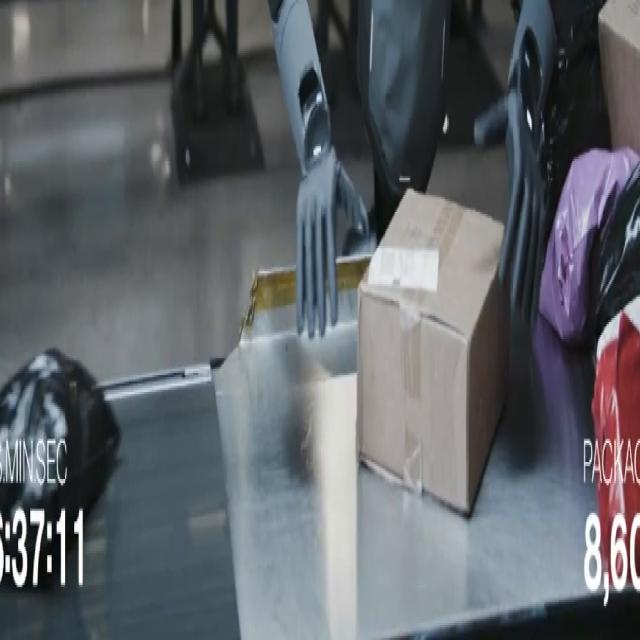package: (358, 191, 509, 514), (0, 350, 120, 546), (540, 149, 638, 345), (539, 0, 610, 241), (592, 297, 639, 582), (590, 166, 639, 345), (600, 0, 639, 152)
